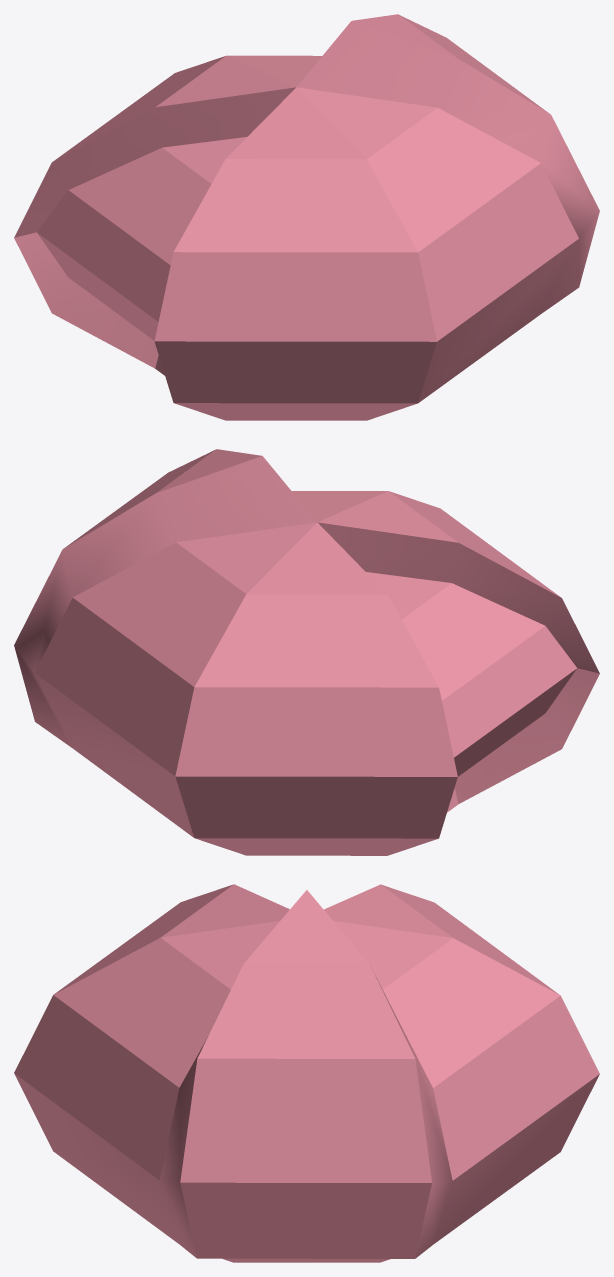
File: tempEnemy.fbx
3 renders of one model, top to bottom at view 1: azimuth 30°, elevation 25°; view 2: azimuth 150°, elevation 25°; view 3: azimuth 270°, elevation 25°, orthographic. The views are drawn at different scales.
Visible parts, largest first — view 1: Enemy; view 2: Enemy; view 3: Enemy.
Boxes of the visible parts, left/top/right/bottom form: Enemy: left=14, top=14, right=599, bottom=420; Enemy: left=14, top=449, right=599, bottom=855; Enemy: left=14, top=884, right=599, bottom=1262.
Size of the model in its own units: 1.86 by 1.39 by 2.
